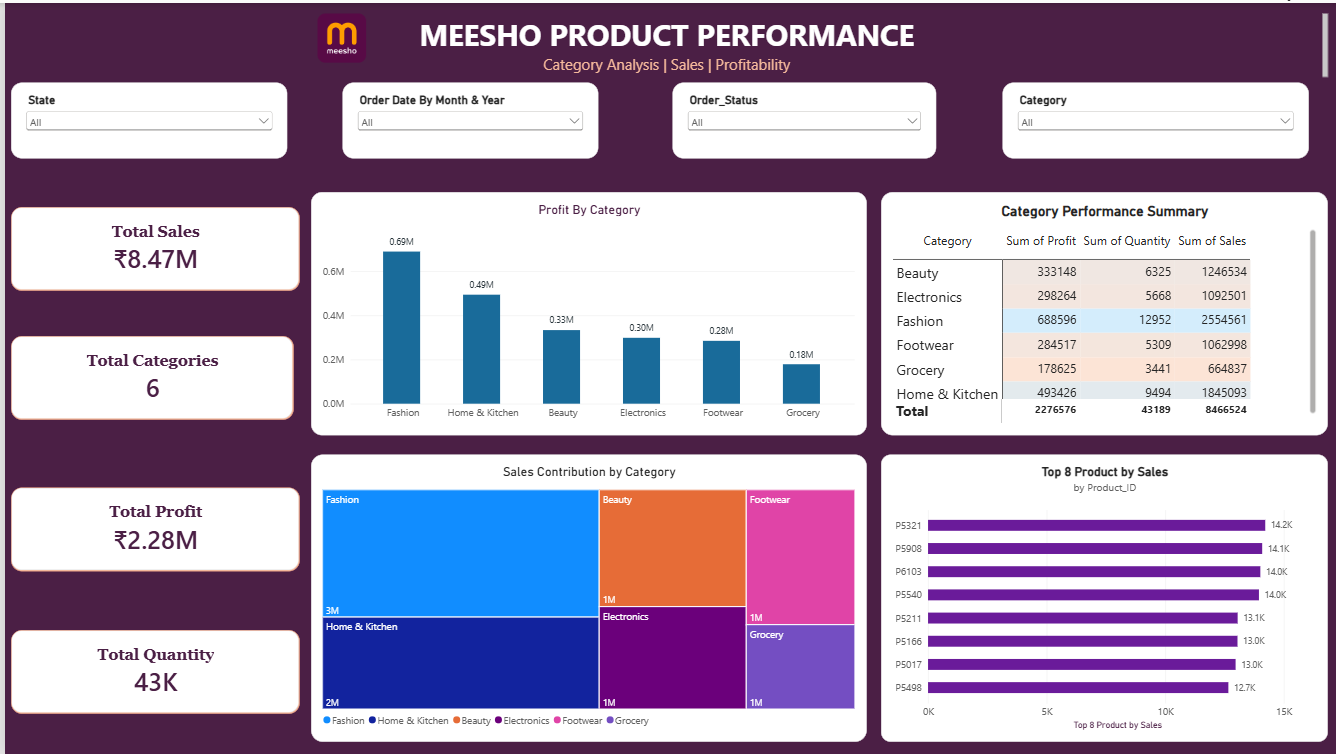

This screenshot's page, from the dashboard's own definition file:
{"tool":"powerbi","page":{"name":"Product Performance","canvas":[1920,1080],"ordinal":1},"visuals":[{"type":"textbox","box":[9.1,15.9,1894.3,97.7],"z":0},{"type":"cardVisual","fields":{"Data":["Table1_2.Total Categories"]},"box":[8.6,478.9,406.6,120.4],"z":1000},{"type":"cardVisual","fields":{"Data":["Table1_2.Total Quantity"]},"box":[8.6,901.7,415.6,120.4],"z":2000},{"type":"cardVisual","fields":{"Data":["Table1_2.Total Profit"]},"box":[8.6,696.8,415.6,120.4],"z":3000},{"type":"cardVisual","fields":{"Data":["Table1_2.Total Sales"]},"box":[8.6,293.4,415.6,120.4],"z":4000},{"type":"image","box":[440.6,15.9,88.6,70.4],"z":5000},{"type":"clusteredBarChart","fields":{"Category":["Table1_2.Product_ID"],"Y":["Sum(Table1_2.Sales)"]},"box":[1260.6,649.6,642.8,413.4],"z":6000},{"type":"clusteredColumnChart","title":"Profit By Category","fields":{"Category":["Table1_2.Category"],"Y":["Sum(Table1_2.Profit)"]},"box":[440.6,272.6,799.5,349.8],"z":7000},{"type":"treemap","title":"Sales Contribution by Category","fields":{"Group":["Table1_2.Category"],"Values":["Sum(Table1_2.Sales)"]},"box":[440.6,649.6,799.5,413.4],"z":8000},{"type":"pivotTable","title":"Category Performance Summary","fields":{"Rows":["Table1_2.Category"],"Values":["Sum(Table1_2.Profit)","Sum(Table1_2.Quantity)","Sum(Table1_2.Sales)"]},"box":[1260.6,272.6,642.8,349.8],"z":9000},{"type":"slicer","fields":{"Values":["Table1_2.State"]},"box":[9.1,113.6,397.5,109],"z":10000},{"type":"slicer","fields":{"Values":["Table1_2.Order_Date.Variation.Date Hierarchy.Year","Table1_2.Order_Date.Variation.Date Hierarchy.Month"]},"box":[486.1,113.6,368,109],"z":11000},{"type":"slicer","fields":{"Values":["Table1_2.Order_Status"]},"box":[960.8,113.6,379.3,109],"z":12000},{"type":"slicer","fields":{"Values":["Table1_2.Category"]},"box":[1435.5,113.6,440.6,109],"z":13000}]}

Visuals, with their boxes in screenshot pixels (x1, y1, x2, y2), scaled from the page's 1920x1080 canvas onto the 1336x754 screenshot:
textbox: box=[6, 11, 1324, 79]
cardVisual - Table1_2.Total Categories: box=[6, 334, 289, 418]
cardVisual - Table1_2.Total Quantity: box=[6, 630, 295, 714]
cardVisual - Table1_2.Total Profit: box=[6, 486, 295, 571]
cardVisual - Table1_2.Total Sales: box=[6, 205, 295, 289]
image: box=[307, 11, 368, 60]
clusteredBarChart - Table1_2.Product_ID x Sum(Table1_2.Sales): box=[877, 454, 1324, 742]
"Profit By Category" clusteredColumnChart: box=[307, 190, 863, 435]
"Sales Contribution by Category" treemap: box=[307, 454, 863, 742]
"Category Performance Summary" pivotTable: box=[877, 190, 1324, 435]
slicer - Table1_2.State: box=[6, 79, 283, 155]
slicer - Table1_2.Order_Date.Variation.Date Hierarchy.Year x Table1_2.Order_Date.Variation.Date Hierarchy.Month: box=[338, 79, 594, 155]
slicer - Table1_2.Order_Status: box=[669, 79, 932, 155]
slicer - Table1_2.Category: box=[999, 79, 1305, 155]
